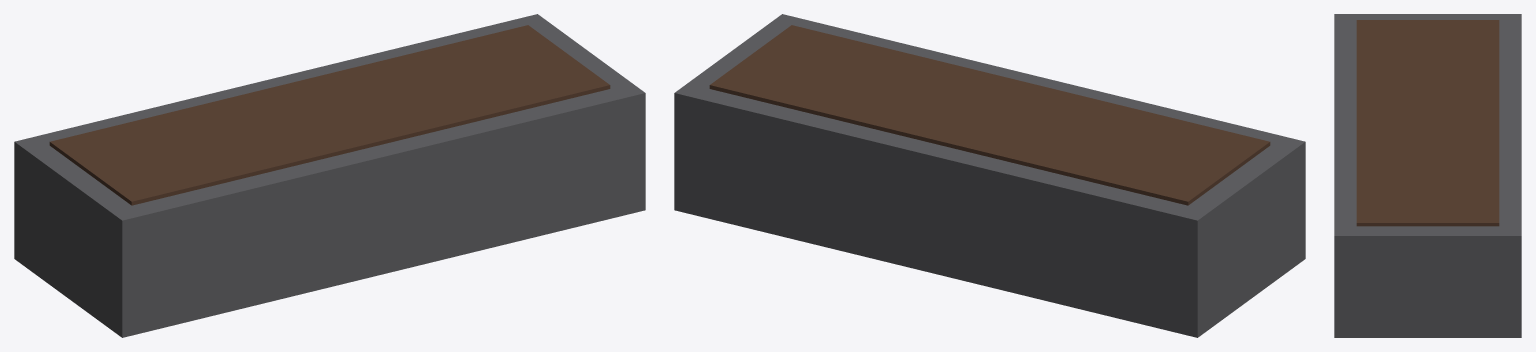
File: Saksi_Beton.fbx
3 views of the same model, side by side, from view 1: azimuth 30°, elevation 25°; view 2: azimuth 150°, elevation 25°; view 3: azimuth 270°, elevation 25° (orthographic). The views are drawn at different scales.
Parts seen in each view (by area): view 1: Saksi_Beton; view 2: Saksi_Beton; view 3: Saksi_Beton.
Boxes of the visible parts, x1,y1,x2,y2 form: Saksi_Beton: (14,14,645,337); Saksi_Beton: (674,14,1305,337); Saksi_Beton: (1334,14,1521,337).
Size of the model in its own units: 2.8 by 0.62 by 1.
